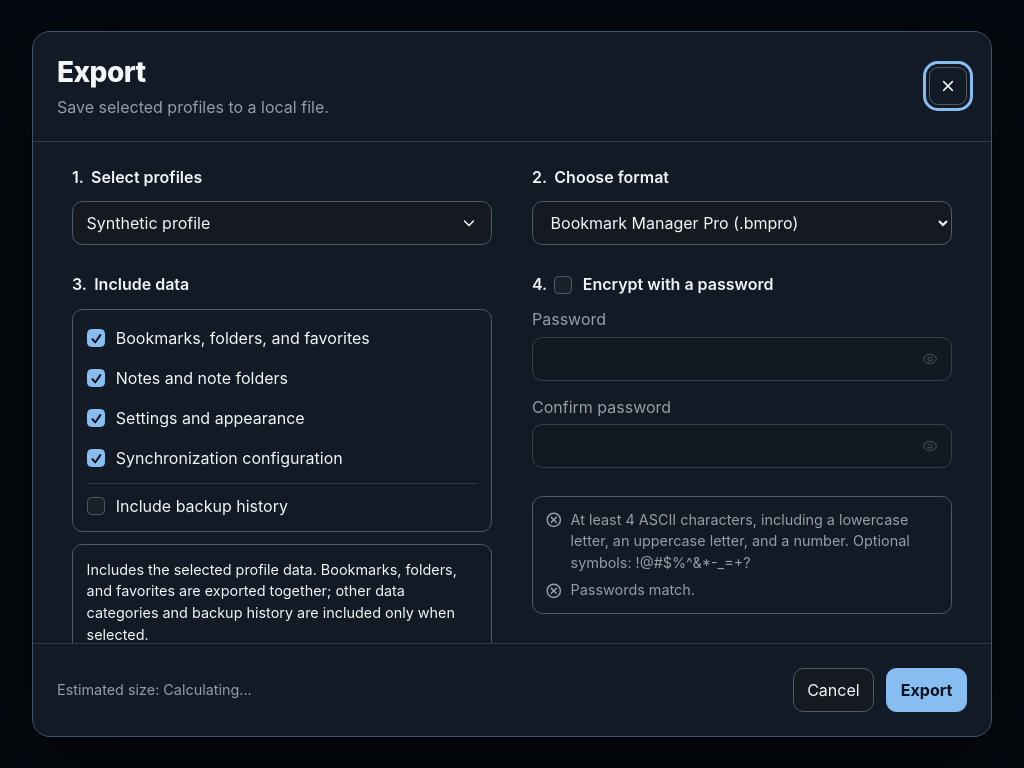
Test case: ExportDialog › discards stale estimates when the chosen format changes
Select "Bookmarks CSV (.csv)" in the dropdown labelled "Choose format": (742, 224) [532,202,952,246]
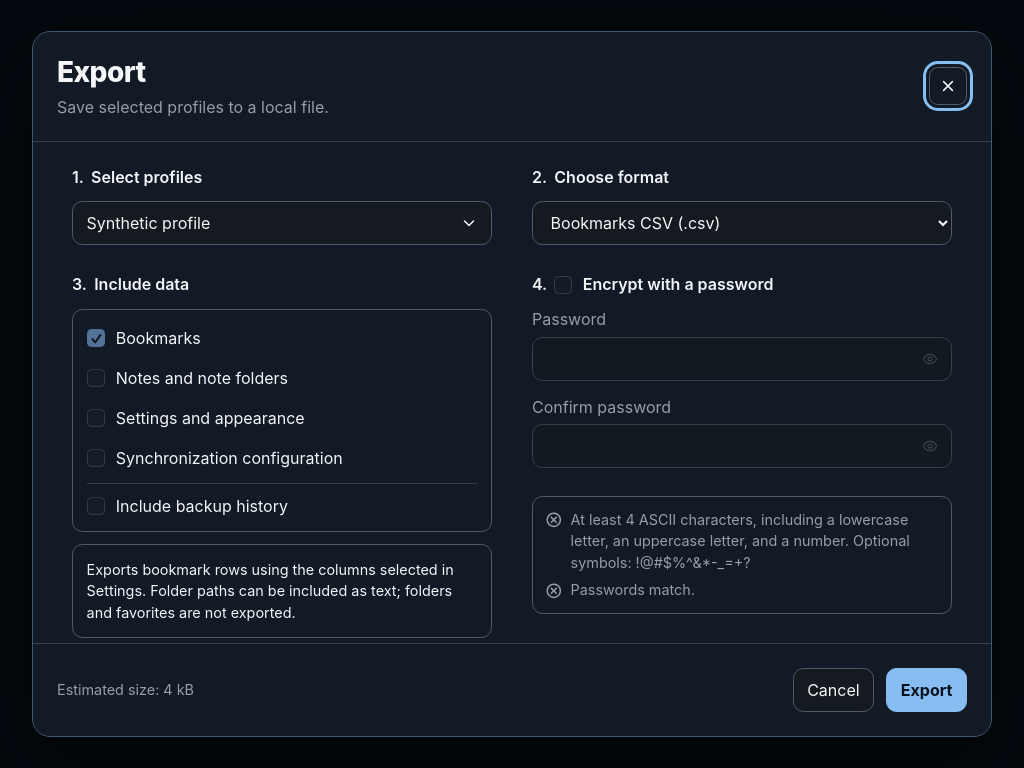
Check: the text "Estimated size: 4 kB" is shown, box [57,682,194,698]
